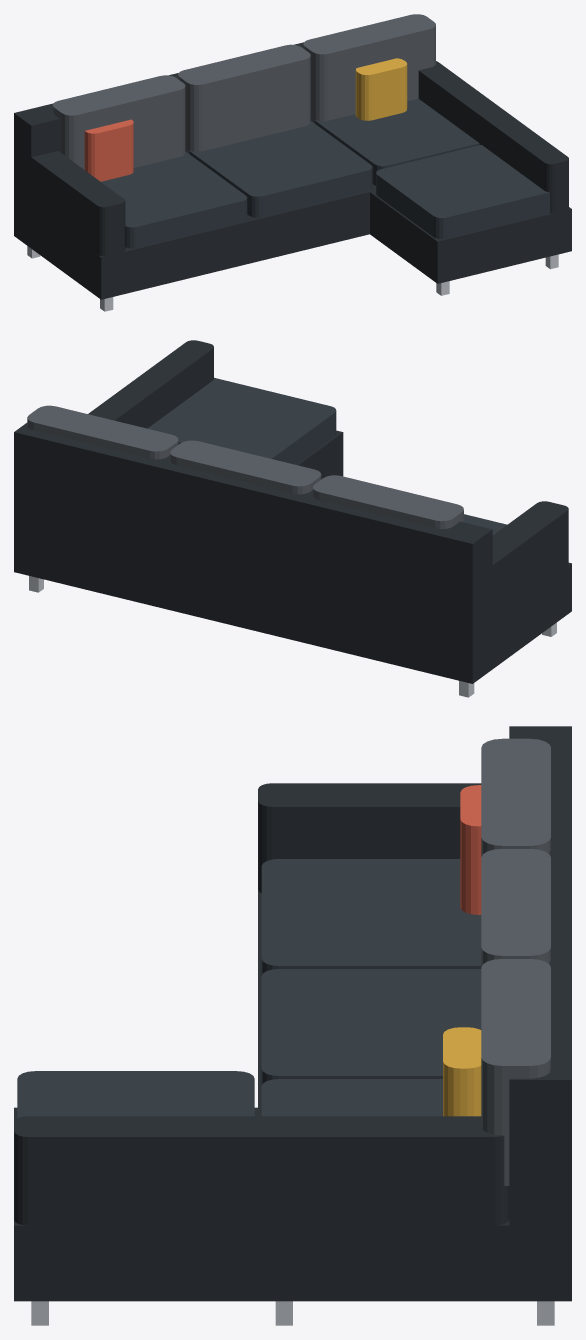
File: design_sofa.glb
3 views of the same model, one above another, from view 1: azimuth 30°, elevation 25°; view 2: azimuth 150°, elevation 25°; view 3: azimuth 270°, elevation 25° (orthographic). The views are drawn at different scales.
Parts seen in each view (by area): view 1: design_sofa_Body; view 2: design_sofa_Body; view 3: design_sofa_Body.
Part boxes in pixels (left/top/right/bottom): design_sofa_Body: left=14, top=14, right=571, bottom=311; design_sofa_Body: left=14, top=340, right=571, bottom=697; design_sofa_Body: left=14, top=726, right=571, bottom=1325.
Bounding box in the file's own units: 2.4 × 0.84 × 1.6.
